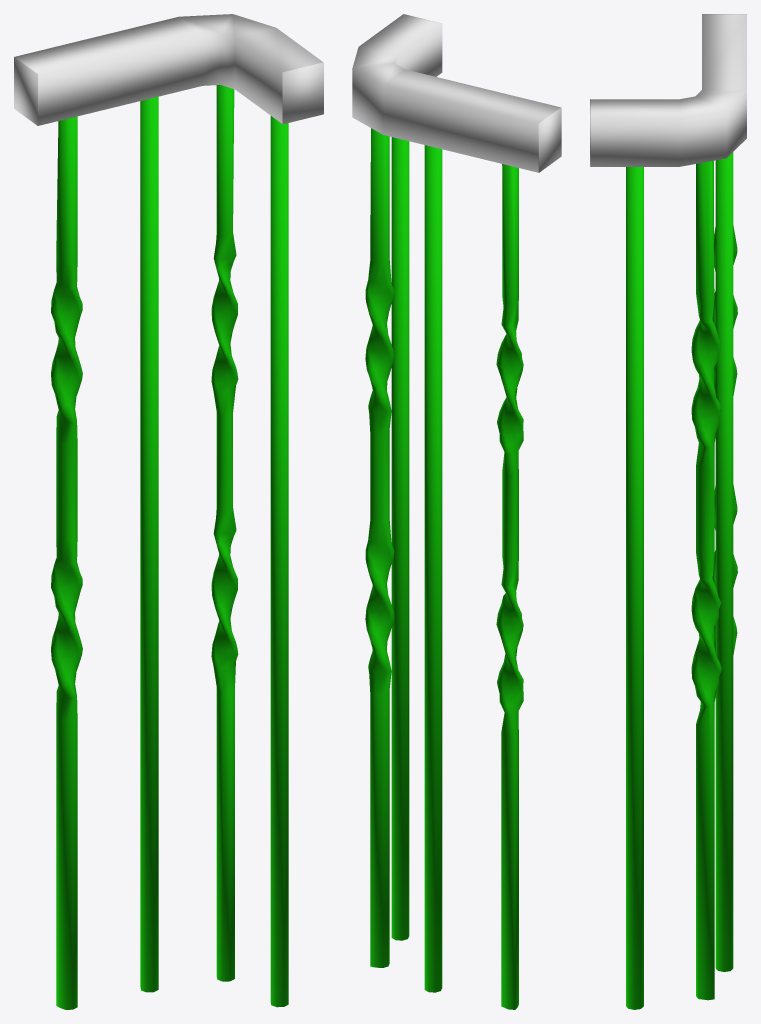
File: fence_corner.fbx
The picture shows the model from 3 angles, left to right: view 1: azimuth 30°, elevation 25°; view 2: azimuth 150°, elevation 25°; view 3: azimuth 270°, elevation 25°; orthographic projection. The views are drawn at different scales.
Parts seen in each view (by area): view 1: fence, railing; view 2: fence, railing; view 3: fence, railing.
Boxes of the visible parts, left/top/right/bottom form: fence: left=51, top=85, right=288, bottom=1009; railing: left=14, top=14, right=323, bottom=125; fence: left=365, top=128, right=523, bottom=1009; railing: left=352, top=14, right=561, bottom=172; fence: left=626, top=152, right=737, bottom=1009; railing: left=590, top=14, right=746, bottom=166.
Bounding box in the file's own units: 27.5 × 110 × 17.5.
